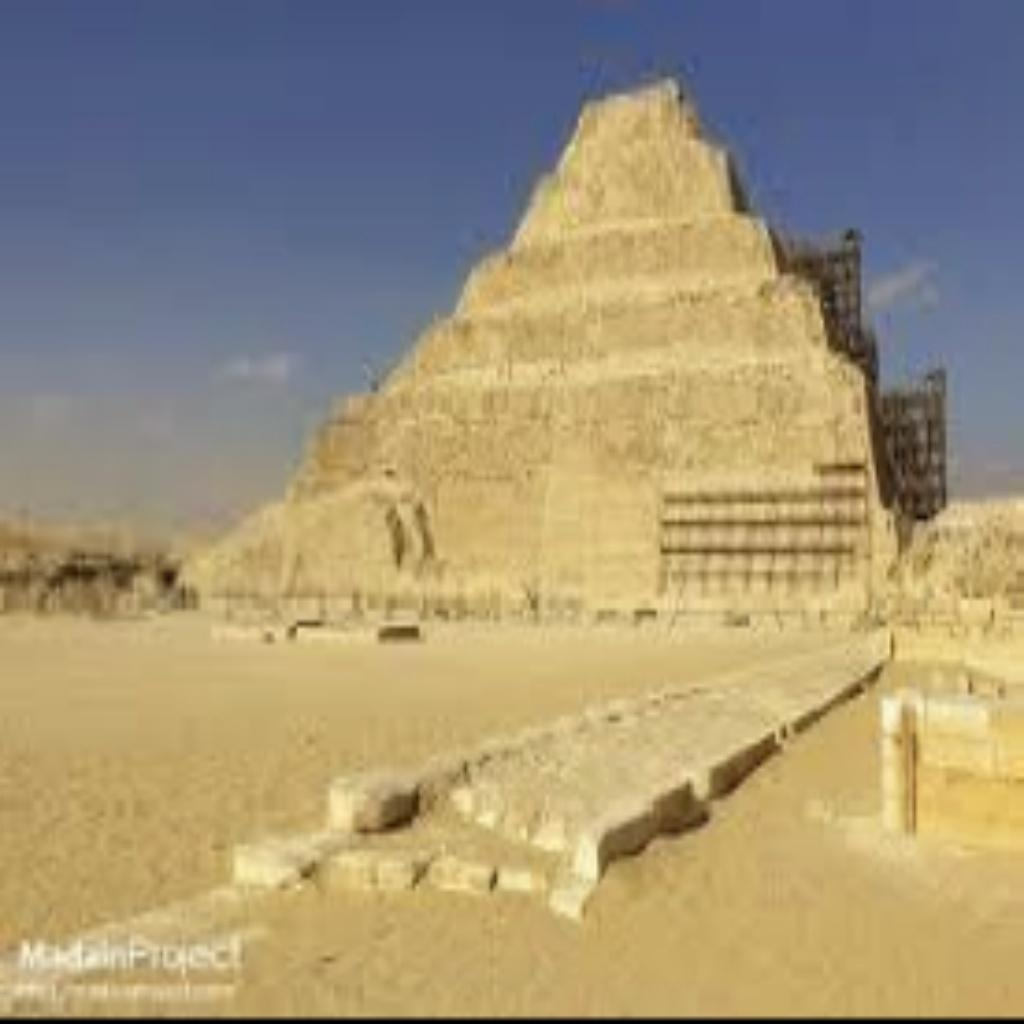Pyramid of Djoser: (193, 67, 909, 621)
